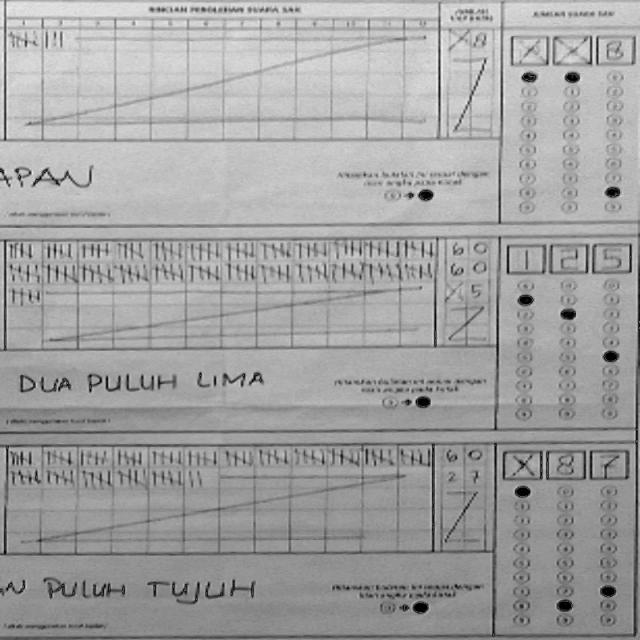Suara: (507, 26, 634, 66), (497, 446, 631, 483), (510, 238, 634, 274)
